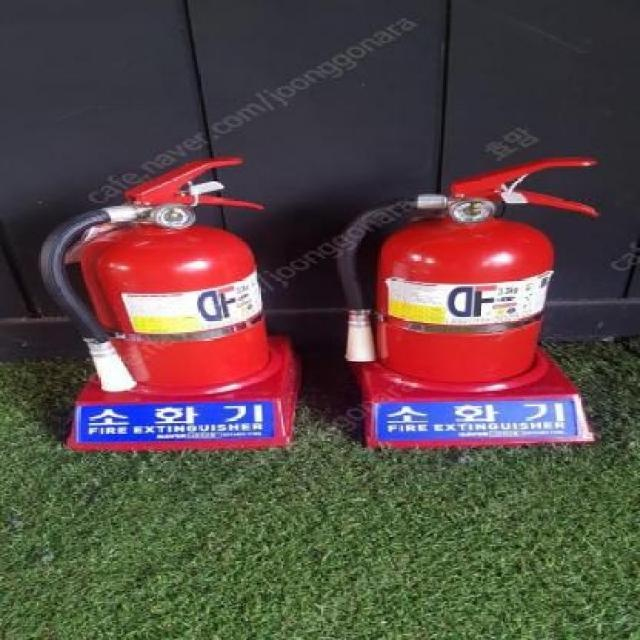fire extinguisher: (334, 158, 600, 384), (39, 156, 270, 392)
